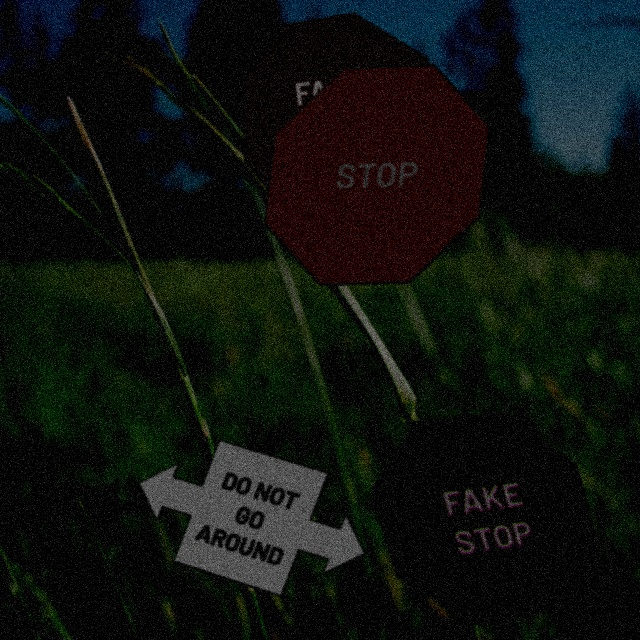DO_NOT_GO_AROUND: (138, 439, 366, 597)
FAKE_STOP: (241, 12, 460, 240), (370, 411, 598, 625)
STOP: (263, 64, 491, 286)
